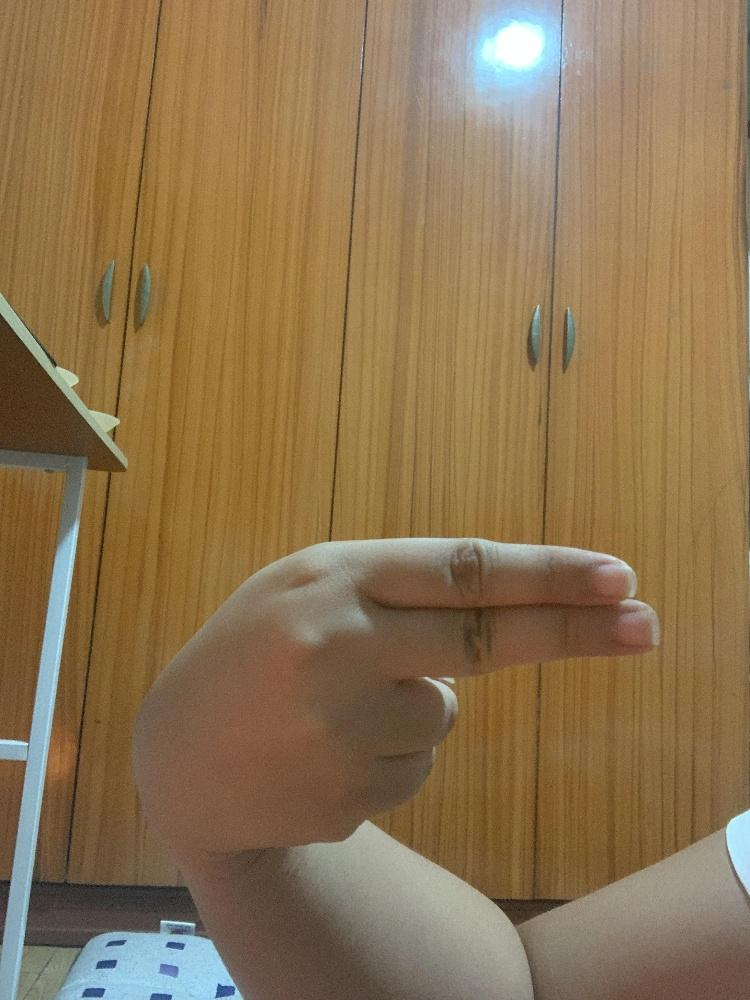h: (127, 533, 664, 847)
